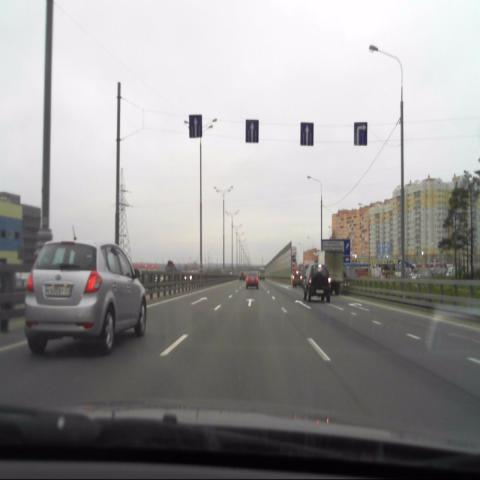5_15_2: (188, 114, 202, 138), (246, 119, 258, 142), (354, 122, 366, 145), (301, 123, 313, 144)
